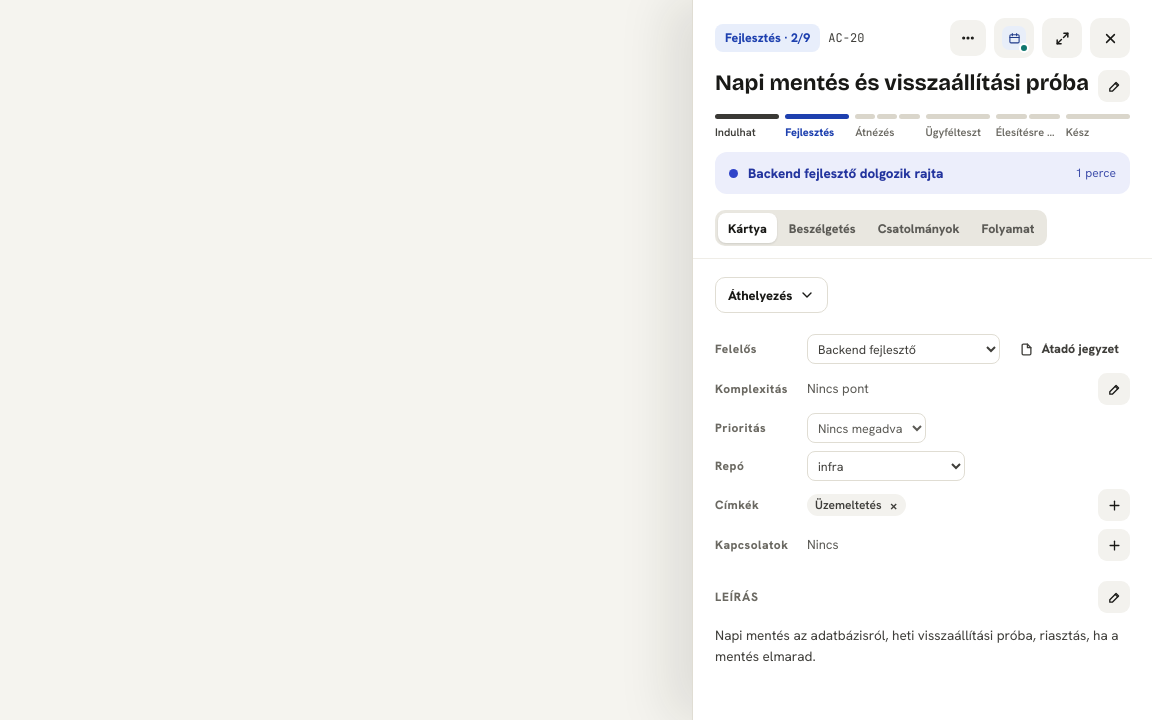
Scenario: the handoff note window (PM-342) › shows the note as Markdown with the commit and the loose changes
Click the button "Átadó jegyzet" at (1069, 349), box left=1008, top=333, right=1130, bottom=365
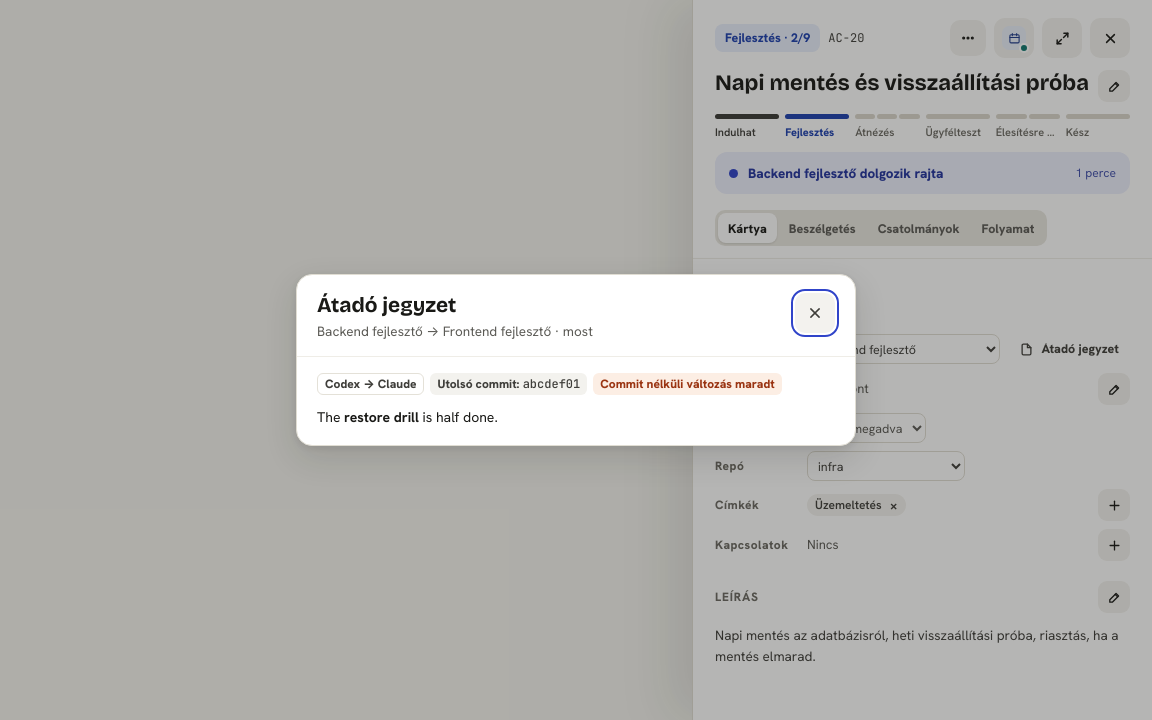
Result: the text "restore drill" is shown at left=344, top=408, right=419, bottom=426
Result: the text "Commit nélküli változás maradt" is shown at left=600, top=378, right=775, bottom=390
